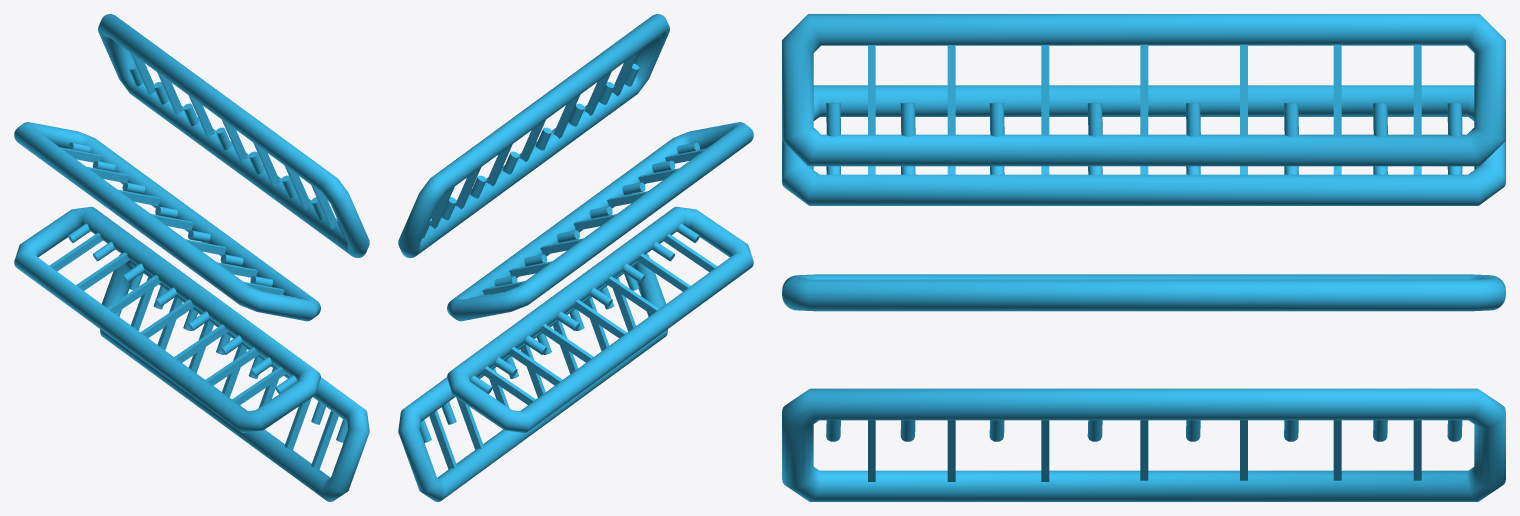
The model's file is magnet-toroid-barrel-cut-2.glb.
The picture shows the model from 3 angles, left to right: view 1: azimuth 30°, elevation 25°; view 2: azimuth 150°, elevation 25°; view 3: azimuth 270°, elevation 25°; orthographic projection. The views are drawn at different scales.
Visible parts, largest first — view 1: cut_2; view 2: cut_2; view 3: cut_2.
Boxes of the visible parts, x1,y1,x2,y2 form: cut_2: [14, 14, 369, 501]; cut_2: [398, 14, 753, 501]; cut_2: [782, 14, 1505, 501].
Size of the model in its own units: 7.87 by 18.68 by 25.27.
